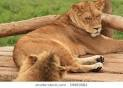lion: (16, 4, 123, 75)
